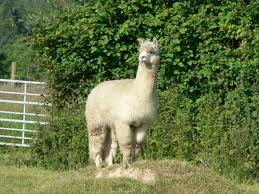alpaca: (85, 36, 159, 170)
